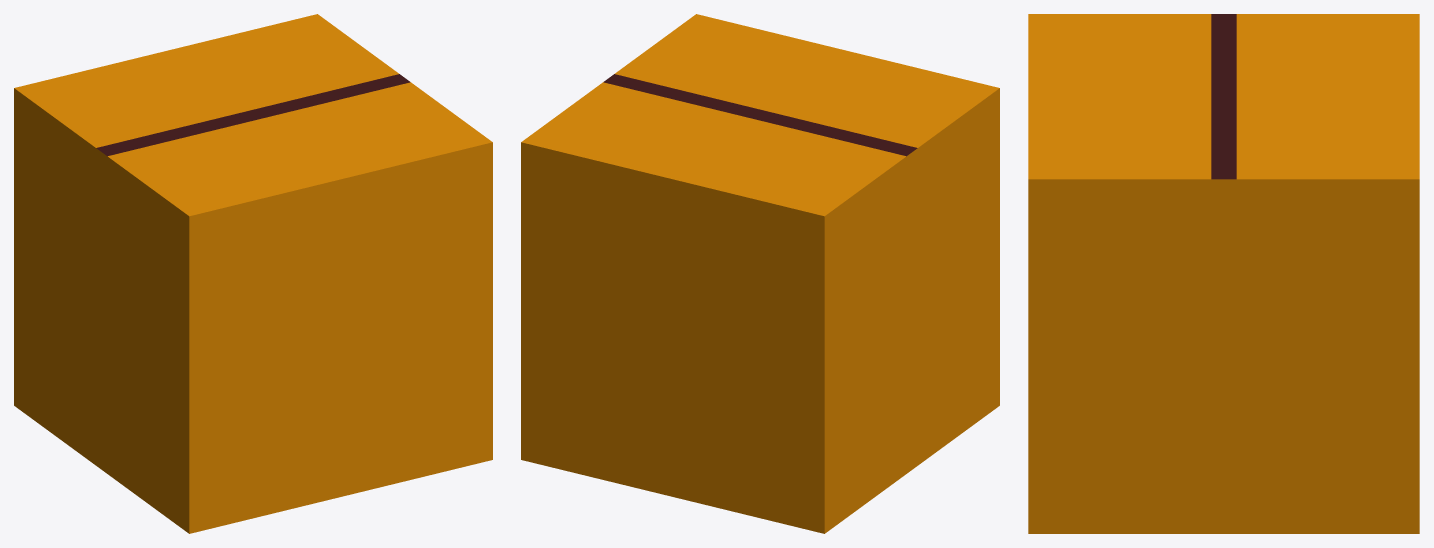
3 renders of one model, left to right at view 1: azimuth 30°, elevation 25°; view 2: azimuth 150°, elevation 25°; view 3: azimuth 270°, elevation 25°, orthographic. The views are drawn at different scales.
Parts seen in each view (by area): view 1: box_0; view 2: box_0; view 3: box_0.
Boxes of the visible parts, <box> form: box_0: <box>14,14,492,533</box>; box_0: <box>521,14,999,533</box>; box_0: <box>1028,14,1419,533</box>.
Size of the model in its own units: 2 by 2 by 2.
